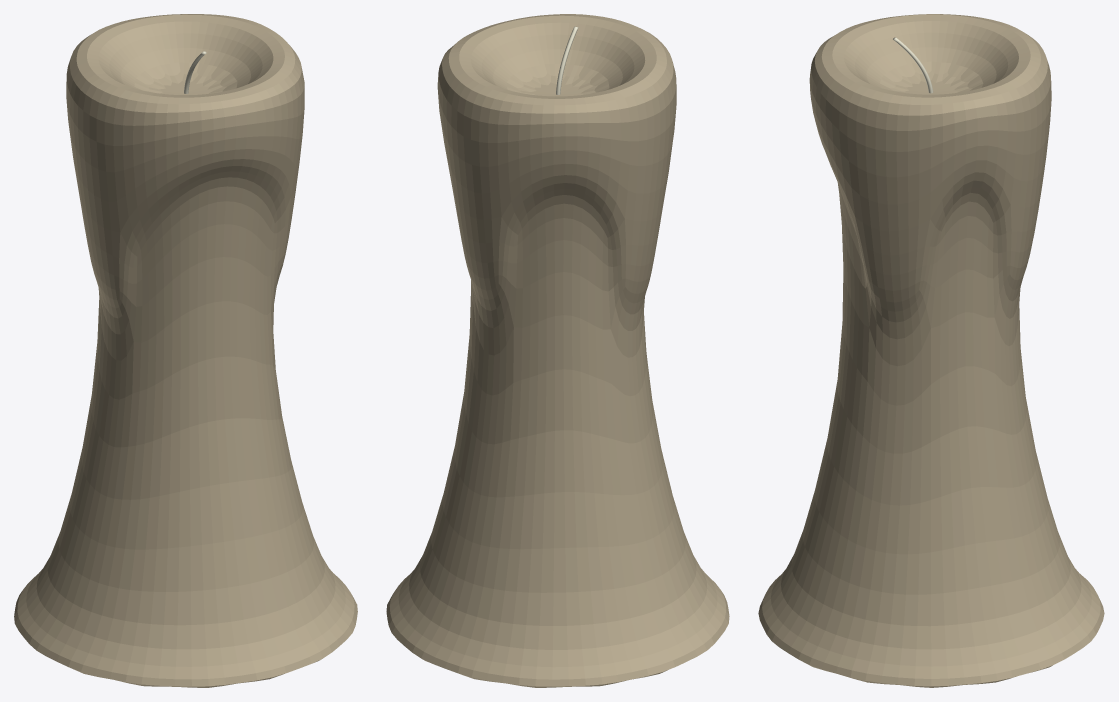
Rendered from Candle_V2.fbx.
3 views of the same model, side by side, from view 1: azimuth 30°, elevation 25°; view 2: azimuth 150°, elevation 25°; view 3: azimuth 270°, elevation 25° (orthographic).
Parts seen in each view (by area): view 1: NurbsPath.003; view 2: NurbsPath.003; view 3: NurbsPath.003.
Boxes of the visible parts, x1,y1,x2,y2 form: NurbsPath.003: (14,14,357,687); NurbsPath.003: (386,14,729,687); NurbsPath.003: (758,14,1104,687).
Size of the model in its own units: 21.07 by 39.34 by 21.11.
